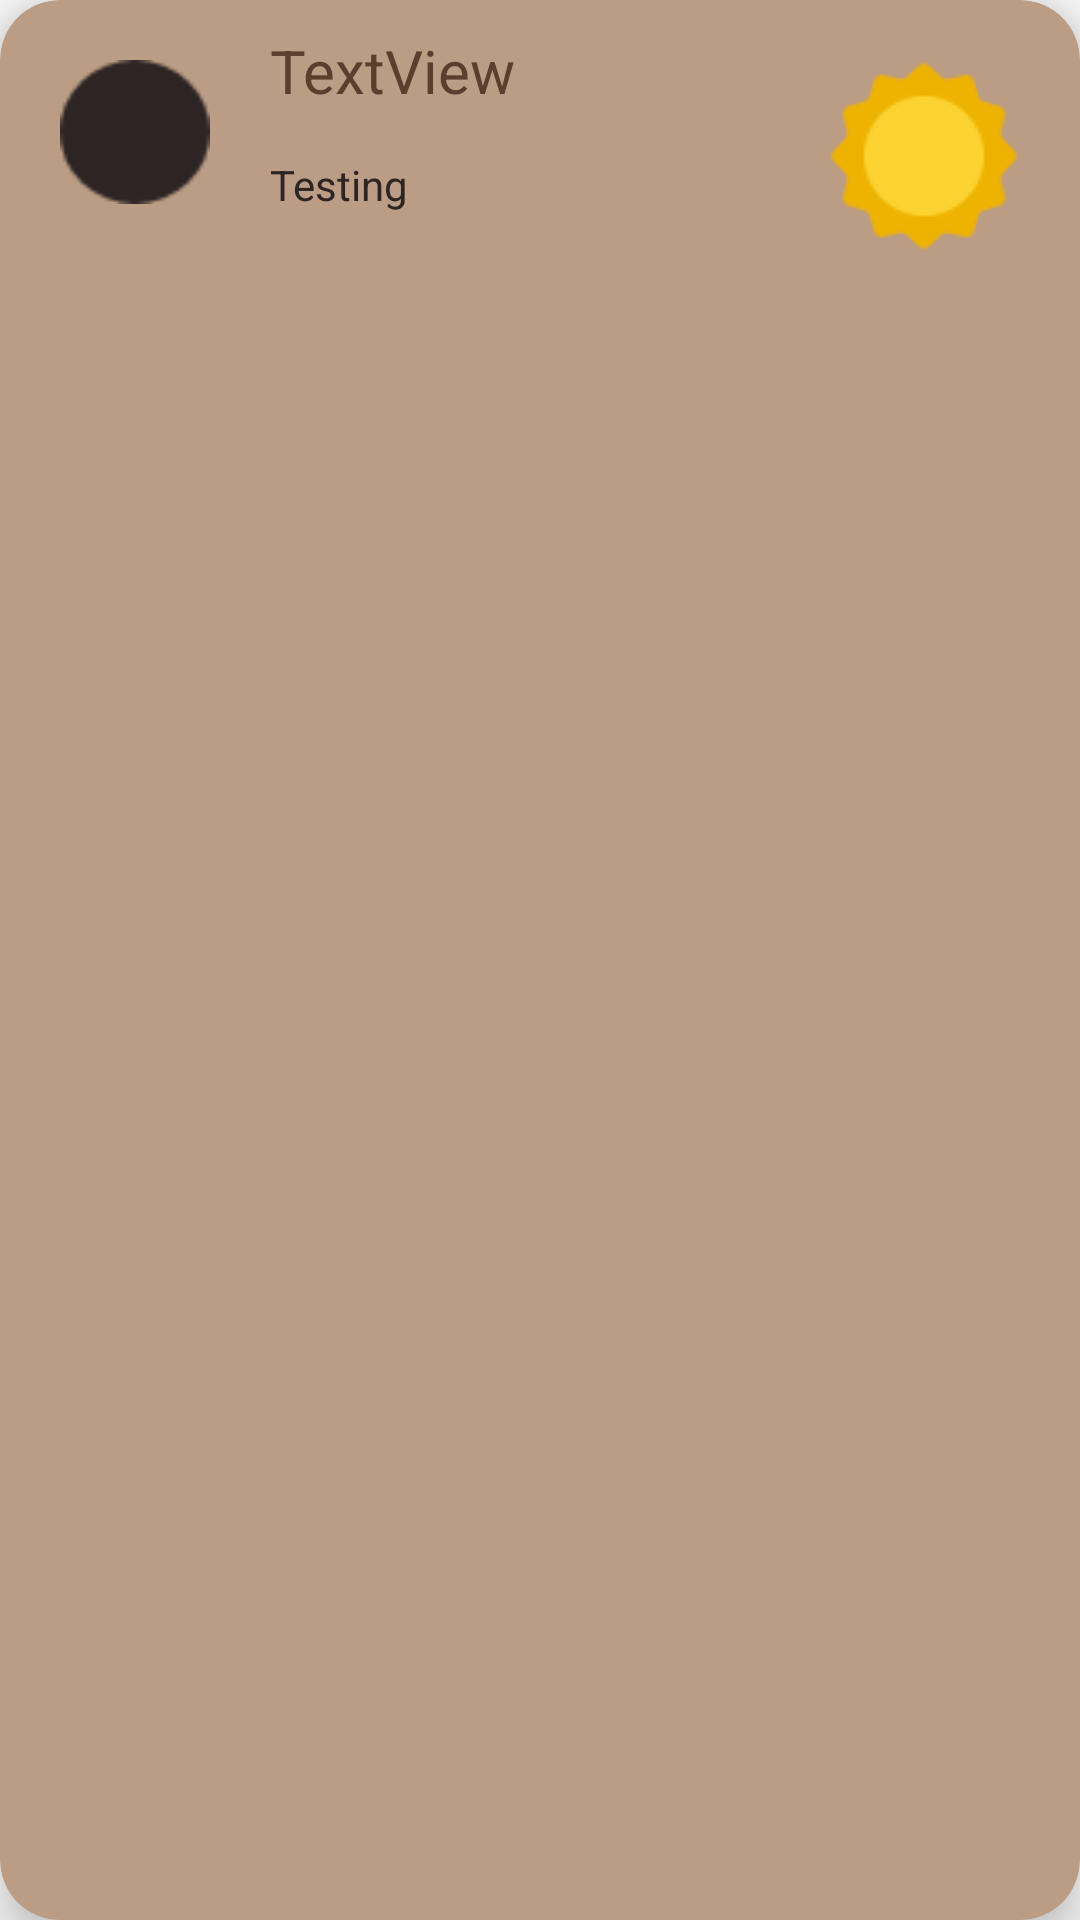

Screen size 1080px×1920px. Icon name, then its box in pixels as (x1, y1, x2, y2):
sun my daytasks: (830, 62, 1018, 250)
